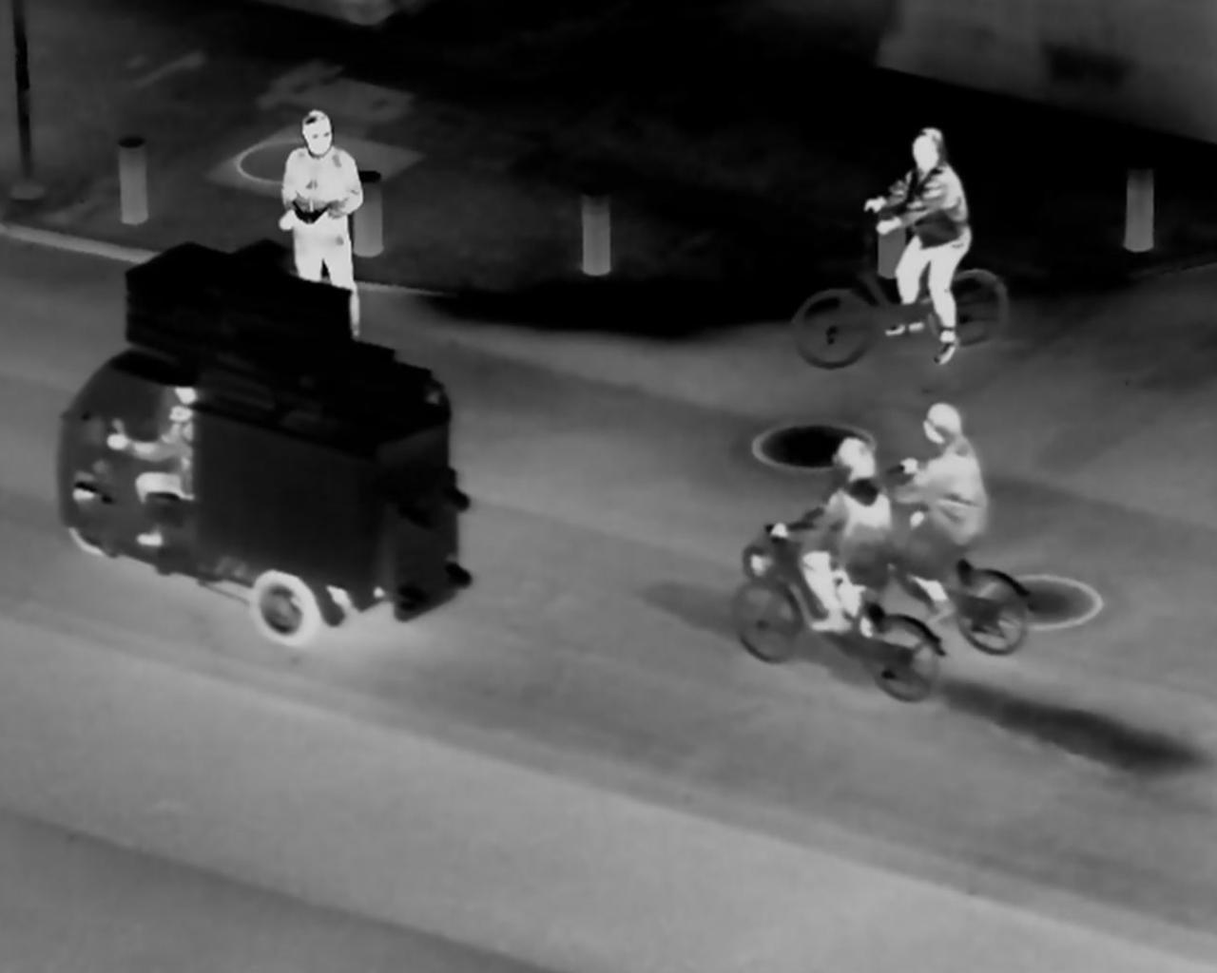person: (849, 119, 973, 363), (763, 426, 899, 643), (903, 392, 1004, 576), (286, 106, 363, 333), (113, 375, 203, 532)
